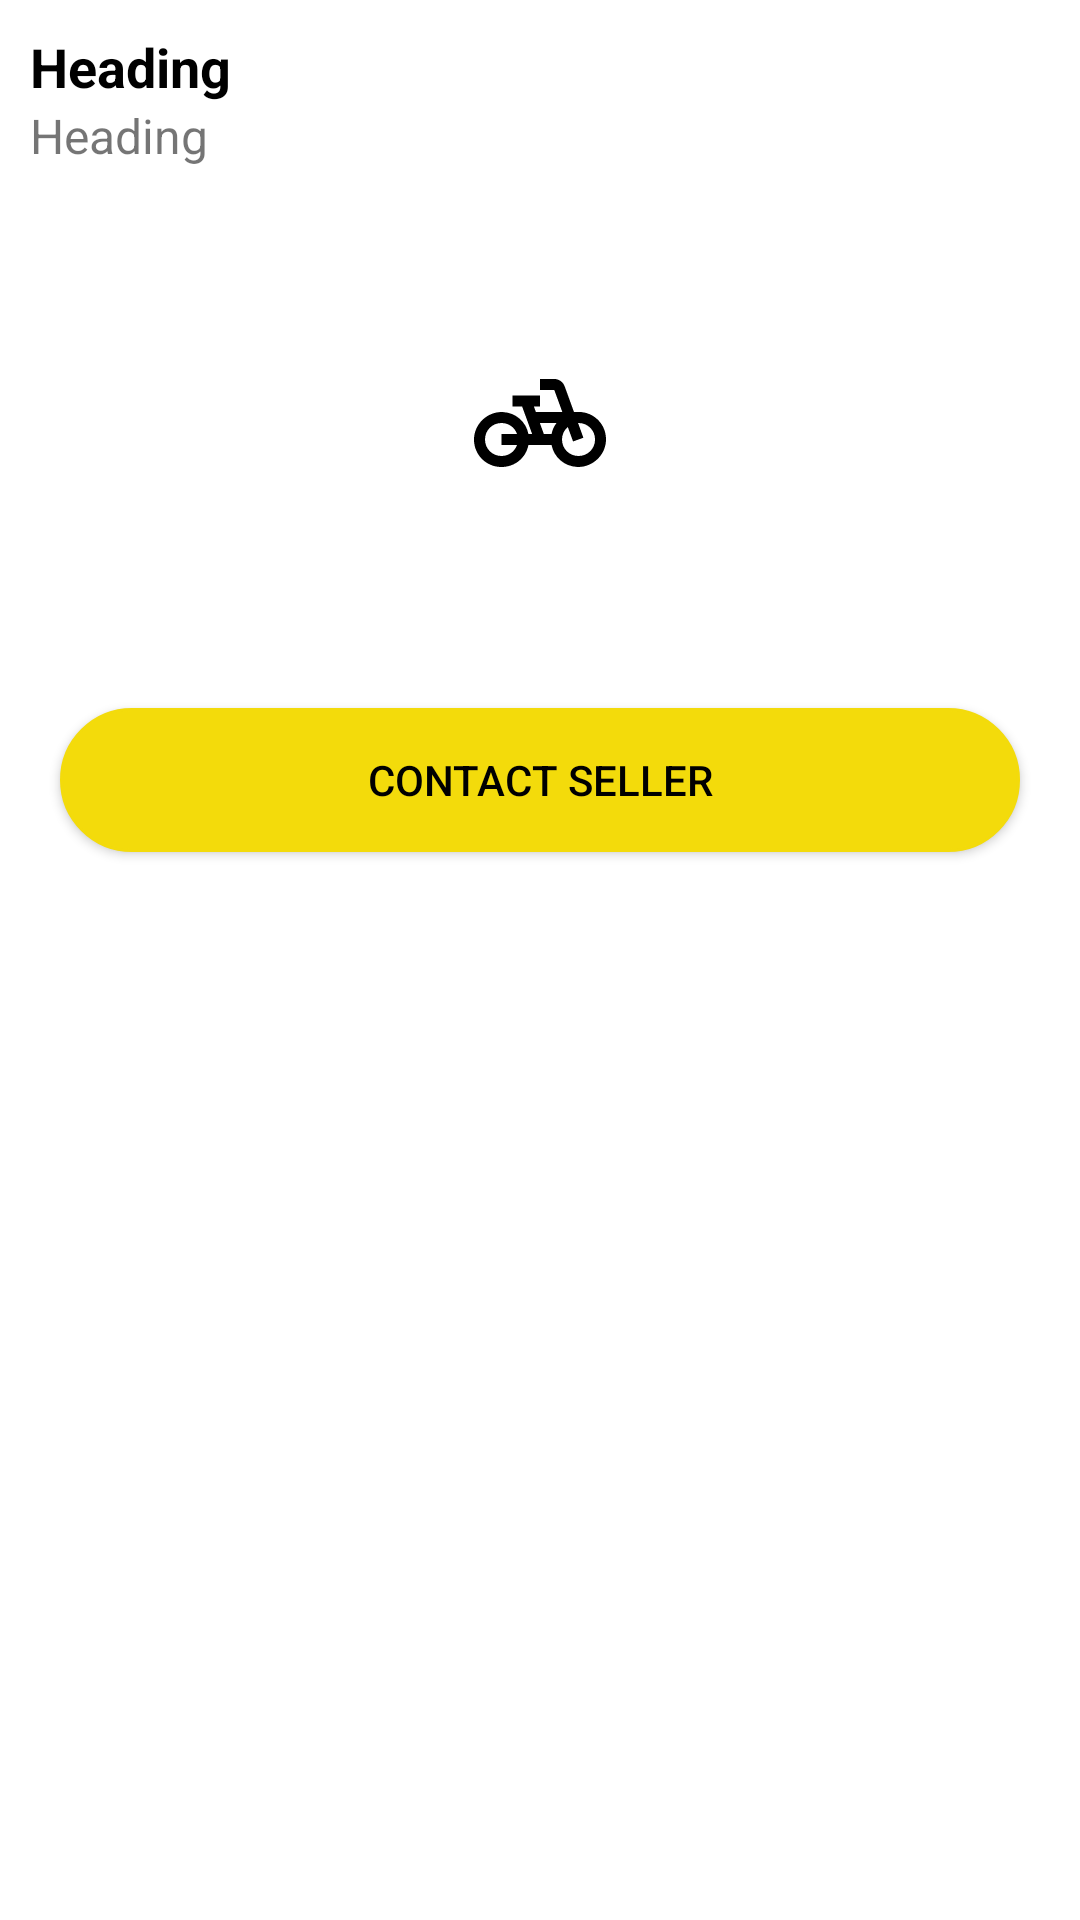

Where to tap for icons on this 1080w x 1920h app screen, as [x,y]:
pedal bike: [540,423]
